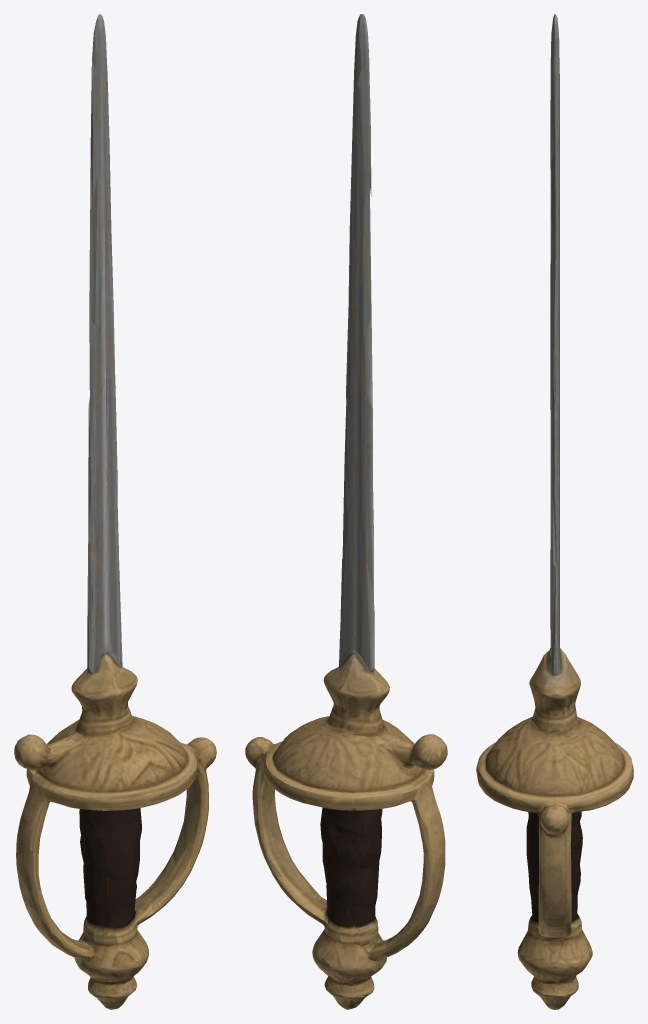
File: duelist_rapier.glb
The picture shows the model from 3 angles, left to right: view 1: azimuth 30°, elevation 25°; view 2: azimuth 150°, elevation 25°; view 3: azimuth 270°, elevation 25°; orthographic projection.
Bounding box in the file's own units: 0.4249 × 2.04 × 0.2954.
Materials: 1 (1 with a texture image).
